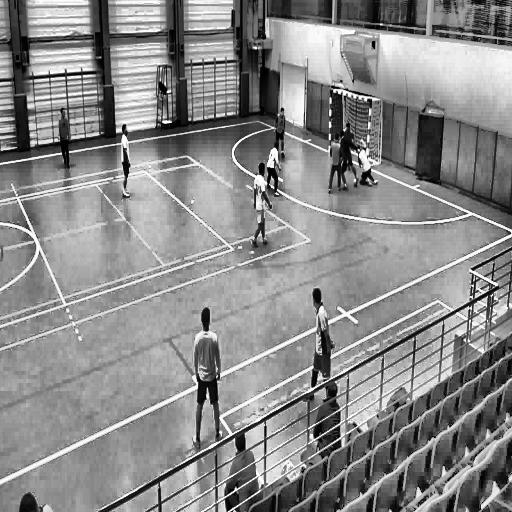ball: (352, 176, 360, 190)
